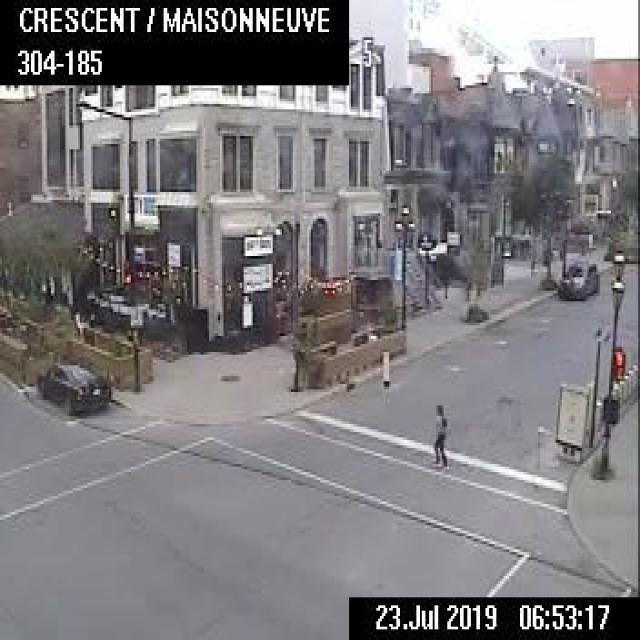pedestrian: (430, 401, 447, 468)
vehicle: (35, 359, 111, 413), (557, 257, 598, 298)
